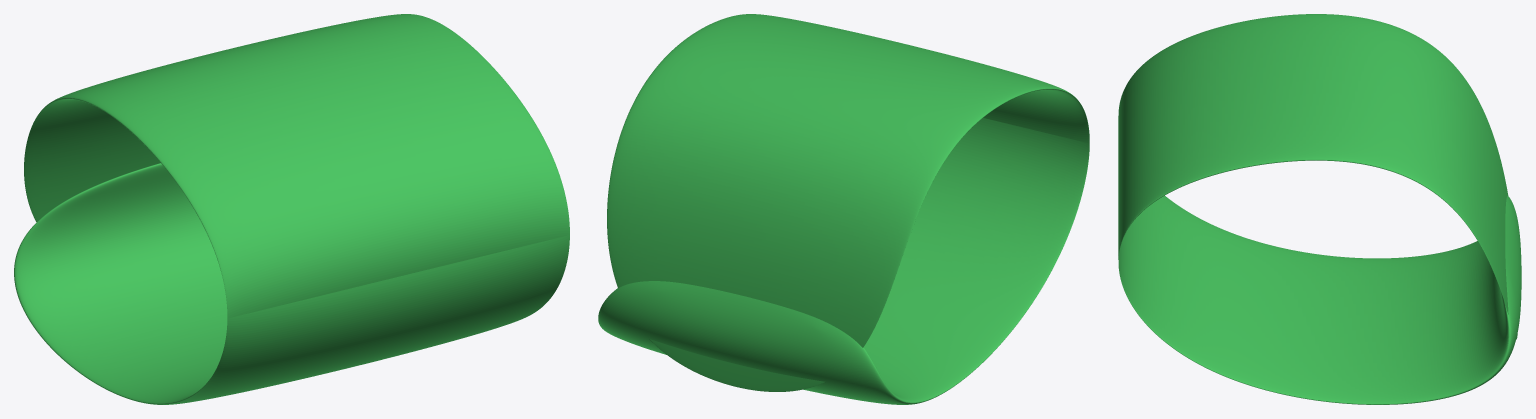
Rendered from Chopped Spring Onion (1).fbx.
3 renders of one model, left to right at view 1: azimuth 30°, elevation 25°; view 2: azimuth 150°, elevation 25°; view 3: azimuth 270°, elevation 25°, orthographic. The views are drawn at different scales.
Parts seen in each view (by area): view 1: Cube; view 2: Cube; view 3: Cube.
Boxes of the visible parts, box(x1,y1,x2,y2) form: Cube: box(14, 14, 569, 404); Cube: box(598, 14, 1089, 404); Cube: box(1118, 14, 1521, 404).
Bounding box in the file's own units: 161 × 134 × 189.
